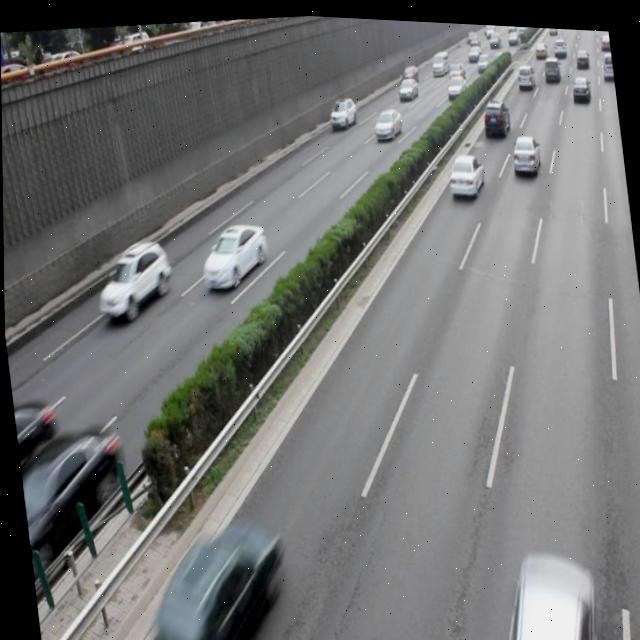car: (135, 508, 288, 640), (15, 420, 133, 570), (499, 541, 596, 640), (90, 231, 177, 322), (195, 215, 270, 292), (442, 145, 485, 196), (507, 127, 540, 171)
